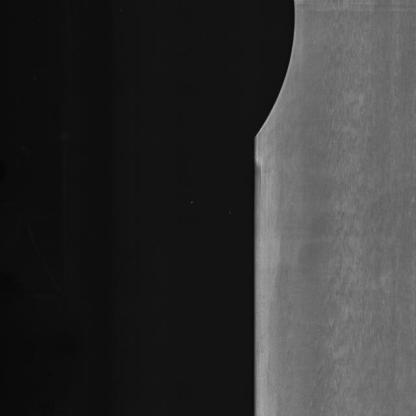crescent_gap: (244, 0, 306, 153)
welding_line: (289, 0, 416, 26)
